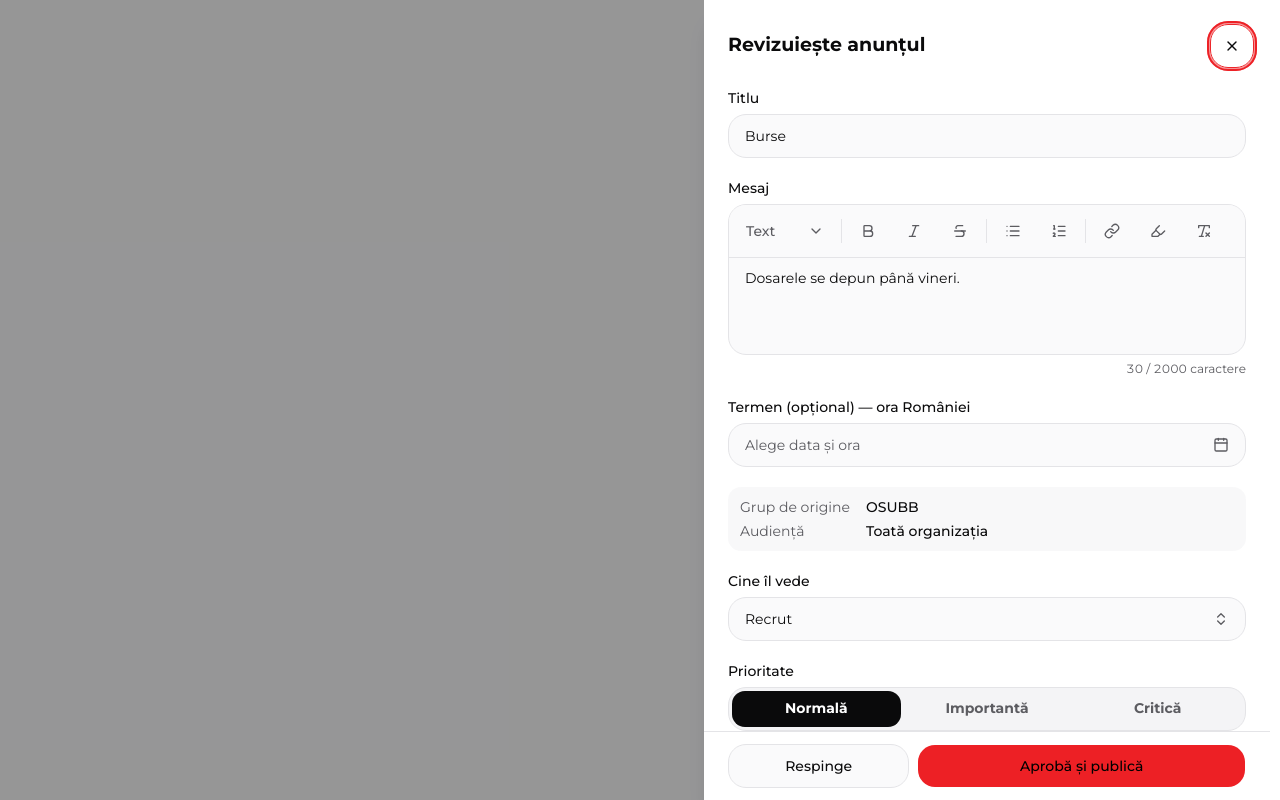
AnnouncementEditSheet in review mode (spec 2026-10-11) › shows the refusal when the request was already decided
Click the button "Aprobă și publică". click: coordinates (1082, 766)
box: [917,744,1246,788]
(page scrolled)
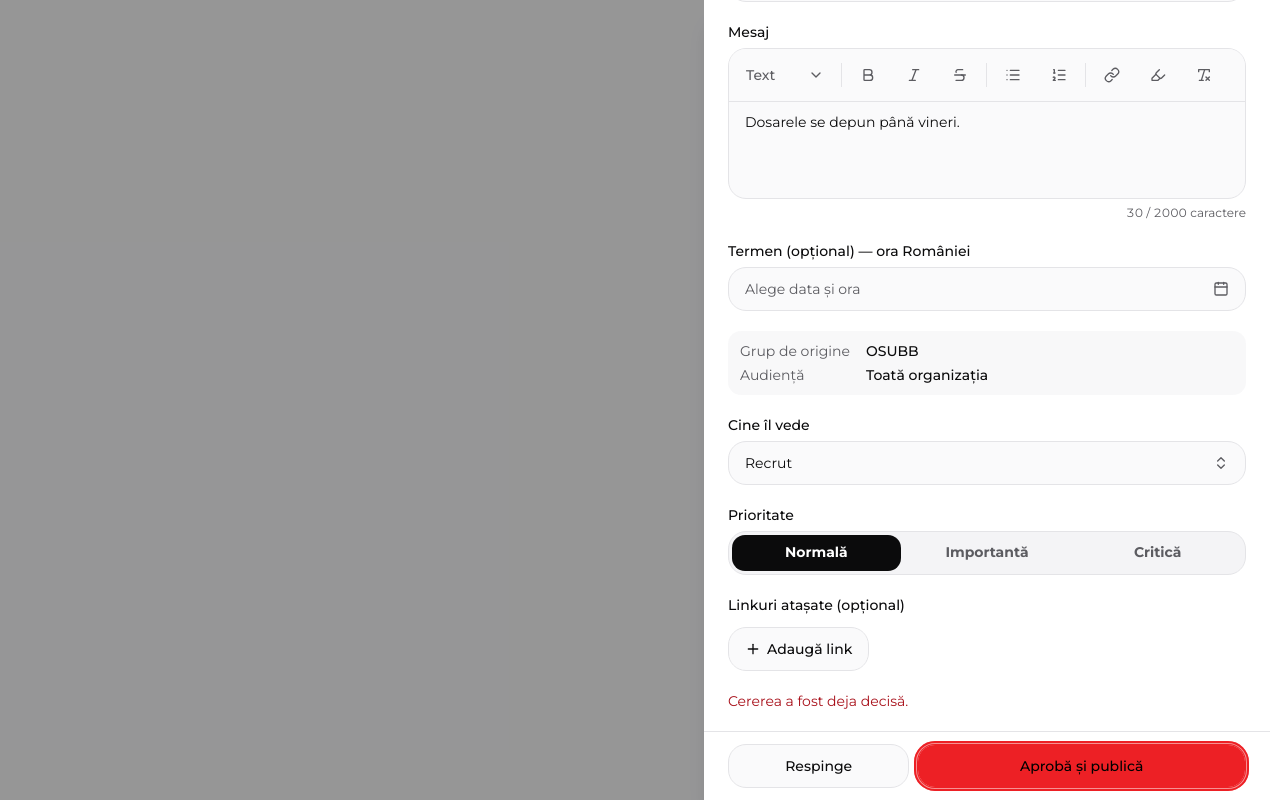
Now the text "Cererea a fost deja decisă." is shown, box [728,692,908,710]
